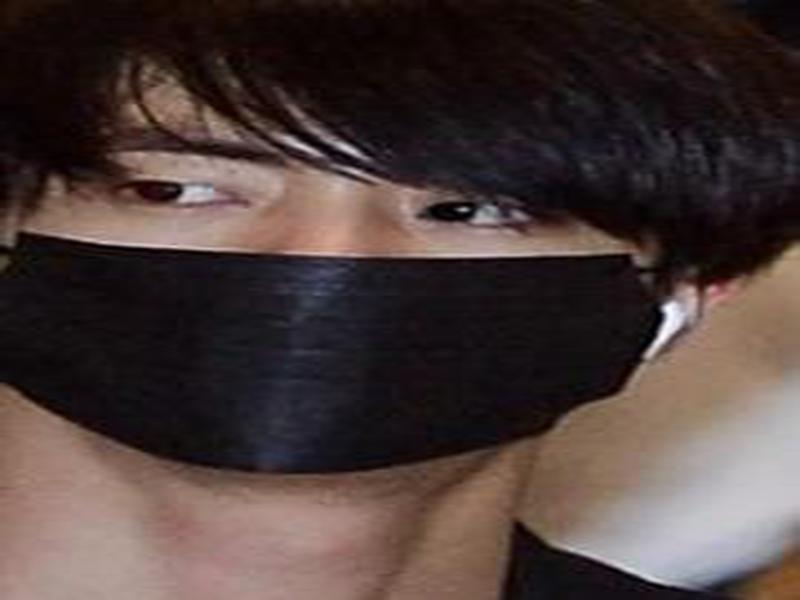with_mask: (3, 57, 710, 480)
